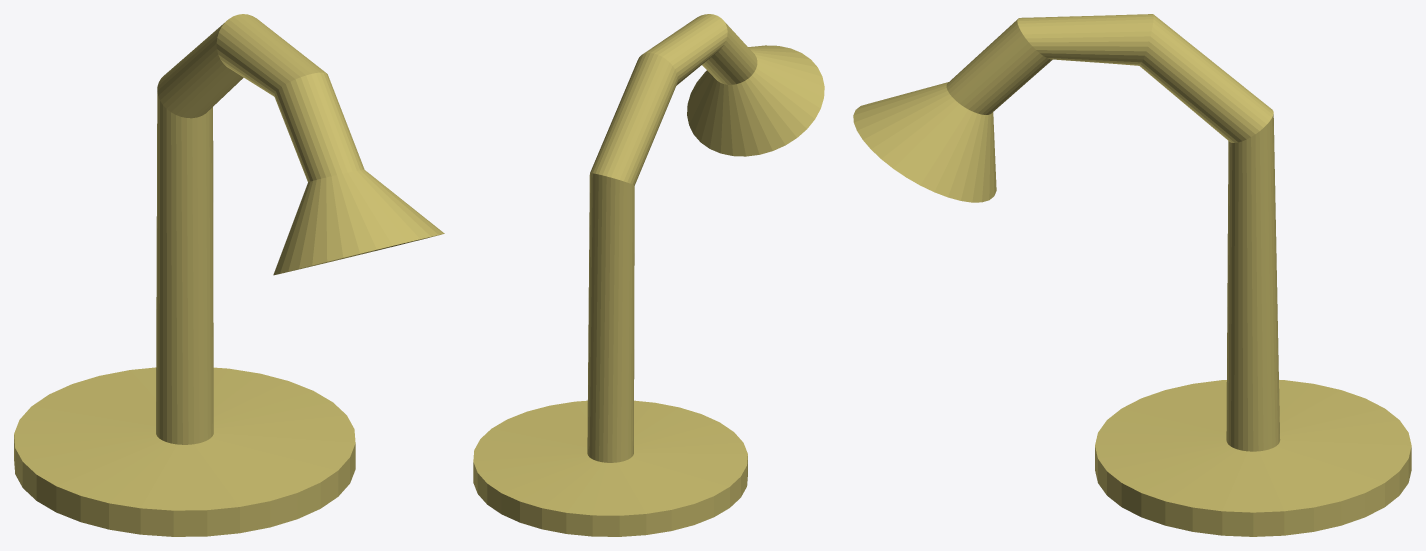
The model's file is NEW Lamp.fbx.
The picture shows the model from 3 angles, left to right: view 1: azimuth 30°, elevation 25°; view 2: azimuth 150°, elevation 25°; view 3: azimuth 270°, elevation 25°; orthographic projection. The views are drawn at different scales.
Parts seen in each view (by area): view 1: Lamp; view 2: Lamp; view 3: Lamp.
Boxes of the visible parts, x1,y1,x2,y2 form: Lamp: (14, 14, 444, 536); Lamp: (473, 14, 824, 536); Lamp: (853, 14, 1411, 536).
Size of the model in its own units: 139 by 219 by 244.
